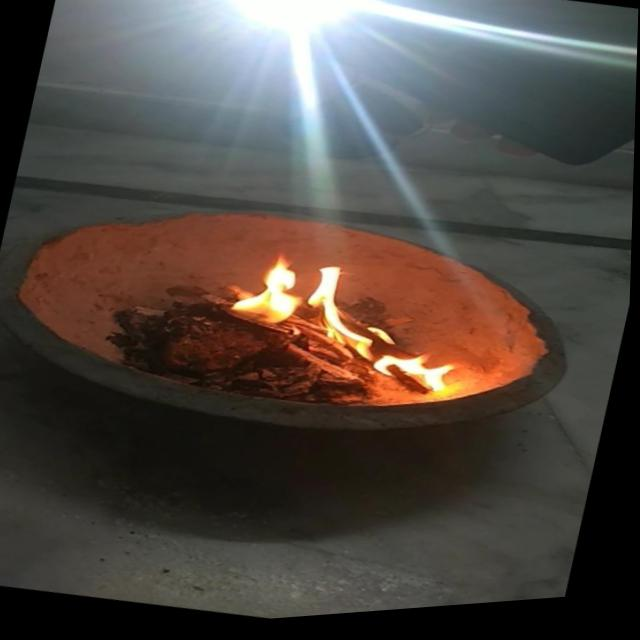fire: (209, 239, 474, 413)
